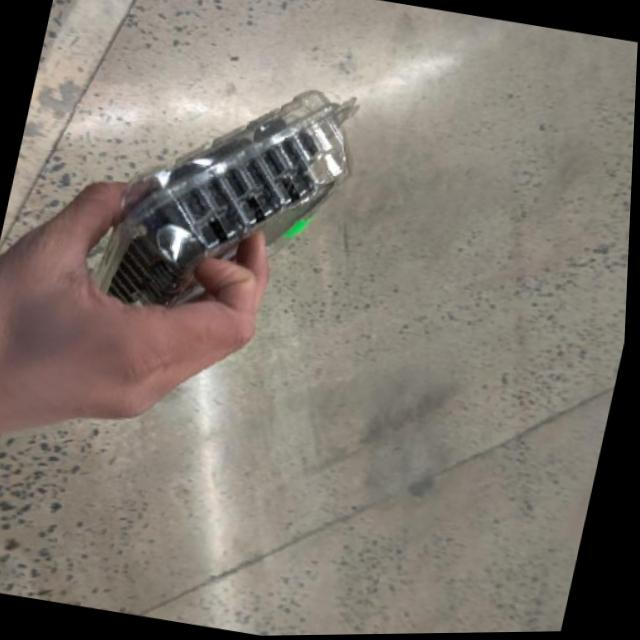Blackberries: (77, 50, 370, 336)
